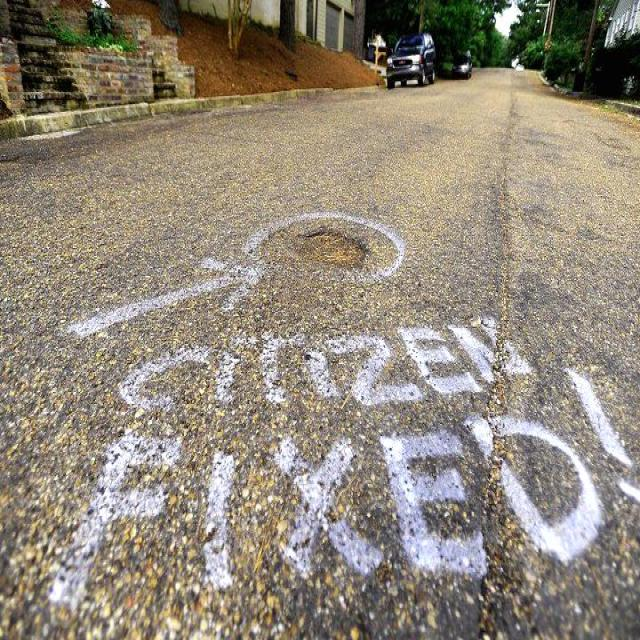pothole: (298, 219, 366, 293)
